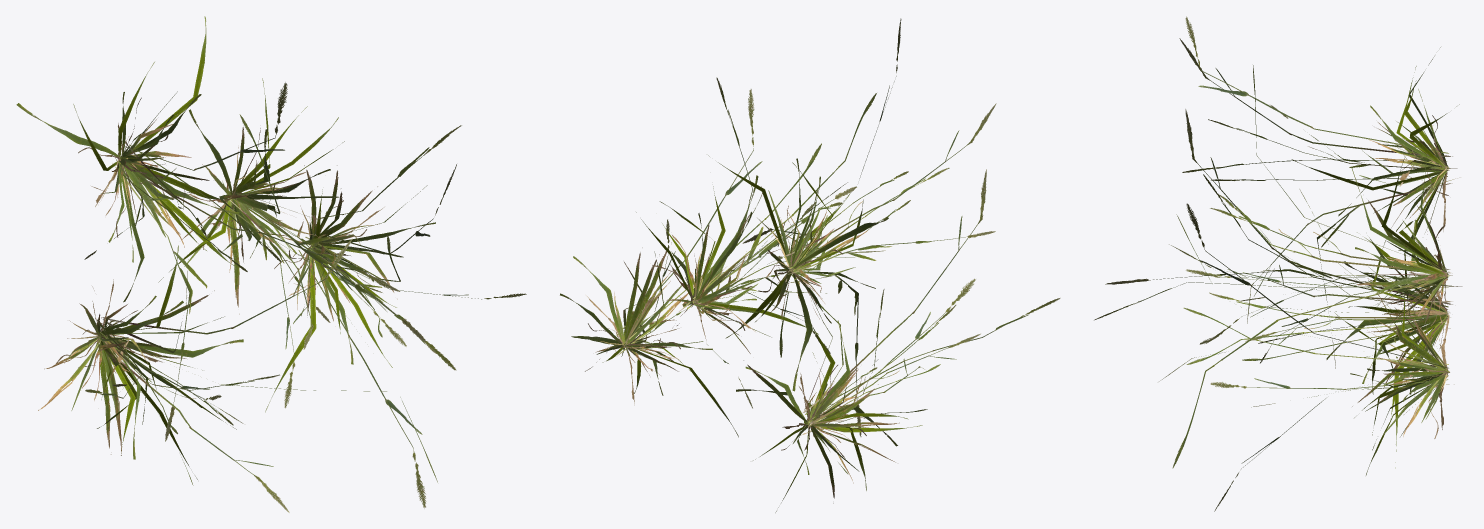
File: Tall_Grass_02_Var3_LOD2.fbx
The picture shows the model from 3 angles, left to right: view 1: azimuth 30°, elevation 25°; view 2: azimuth 150°, elevation 25°; view 3: azimuth 270°, elevation 25°; orthographic projection. The views are drawn at different scales.
Parts seen in each view (by area): view 1: Var3_LOD2; view 2: Var3_LOD2; view 3: Var3_LOD2.
Boxes of the visible parts, left/top/right/bottom form: Var3_LOD2: left=16, top=16, right=526, bottom=512; Var3_LOD2: left=560, top=18, right=1060, bottom=512; Var3_LOD2: left=1094, top=16, right=1462, bottom=511.
Bounding box in the file's own units: 119 × 121 × 92.88.
